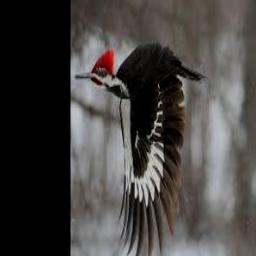Woodpecker: (74, 45, 205, 256)
